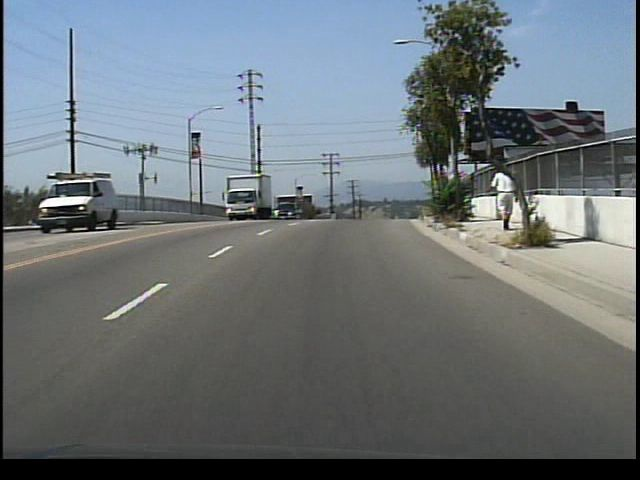person: (489, 160, 518, 234)
